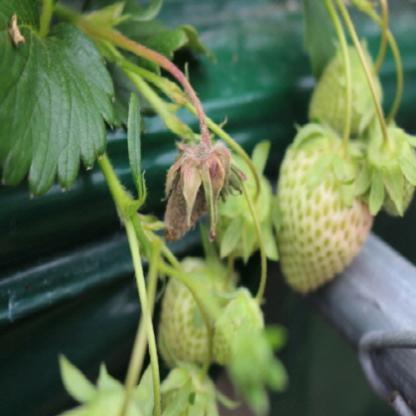Strawberry_Gray_Mold: (161, 102, 248, 242)
